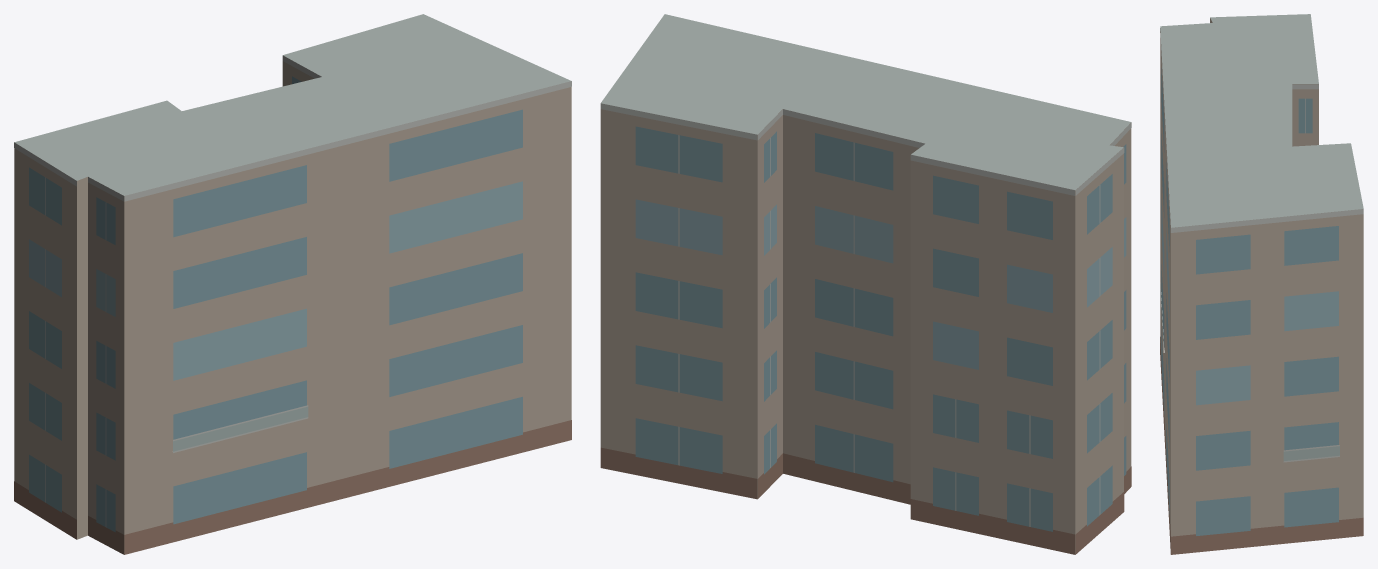
The model's file is survey-upis-33014293.glb.
3 views of the same model, side by side, from view 1: azimuth 30°, elevation 25°; view 2: azimuth 150°, elevation 25°; view 3: azimuth 270°, elevation 25° (orthographic). The views are drawn at different scales.
Parts seen in each view (by area): view 1: survey-upis-33014293.tmp; view 2: survey-upis-33014293.tmp; view 3: survey-upis-33014293.tmp.
Part boxes in pixels (box(x1,y1,x2,y2)): survey-upis-33014293.tmp: box(14, 14, 571, 554); survey-upis-33014293.tmp: box(600, 14, 1131, 554); survey-upis-33014293.tmp: box(1160, 14, 1363, 554).
Size of the model in its own units: 21.4 by 15.25 by 8.61.
